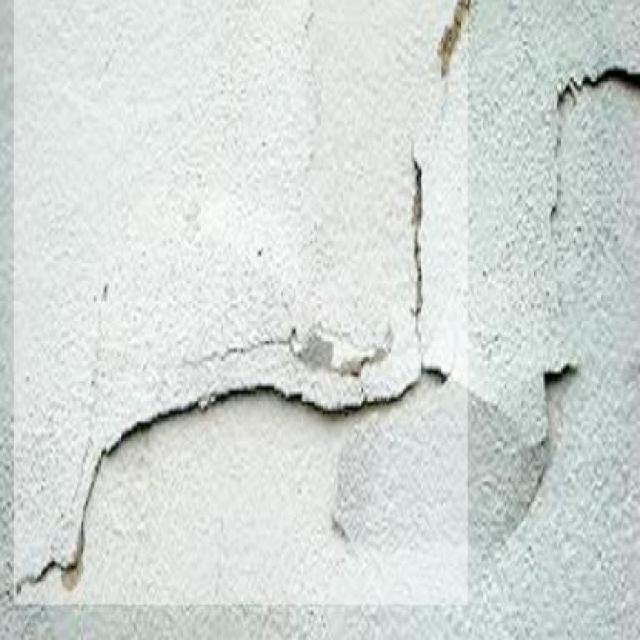Crack: (15, 106, 442, 602), (507, 61, 640, 193), (410, 4, 483, 77)
